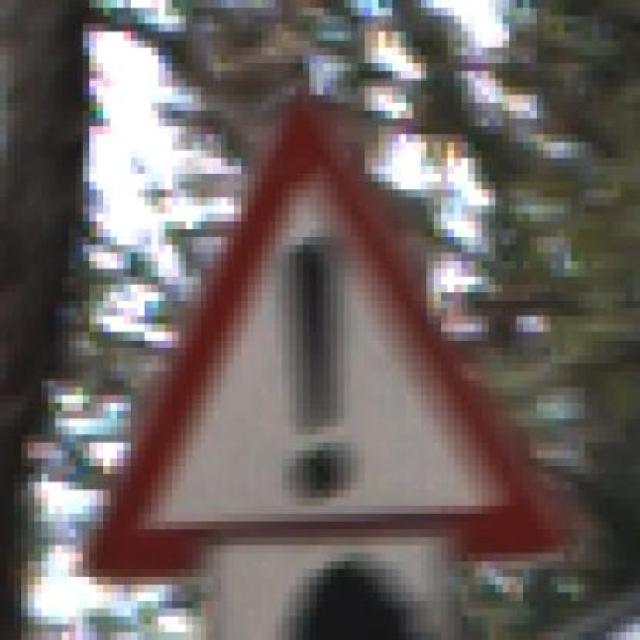Attention Please-: (83, 87, 572, 601)
